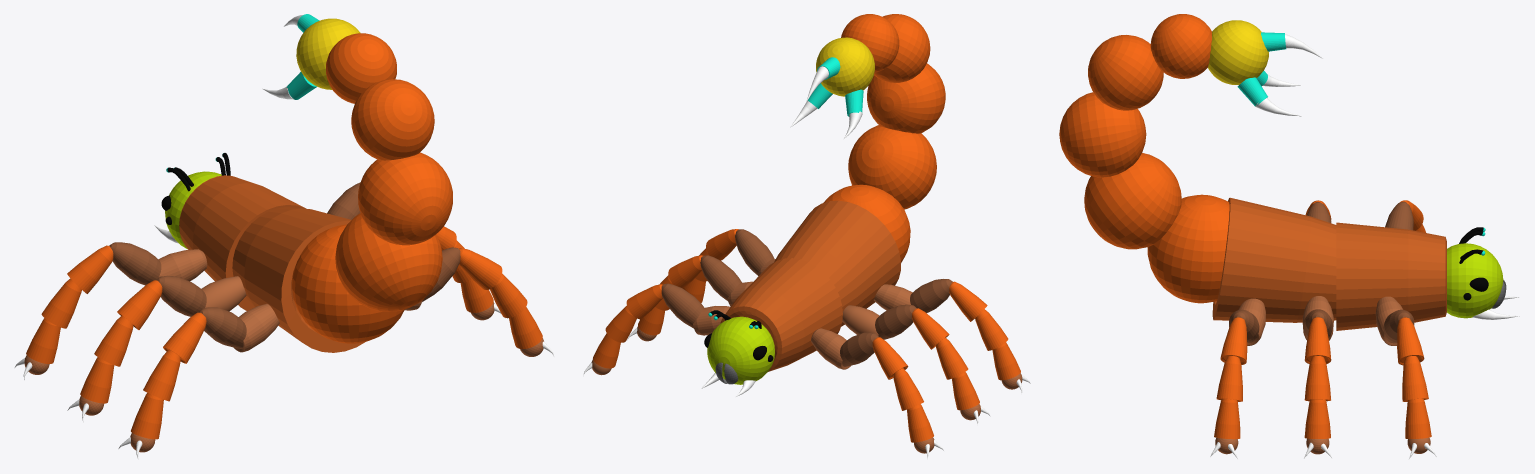
The model's file is Myridon Posed.glb.
The picture shows the model from 3 angles, left to right: view 1: azimuth 30°, elevation 25°; view 2: azimuth 150°, elevation 25°; view 3: azimuth 270°, elevation 25°; orthographic projection. The views are drawn at different scales.
Parts seen in each view (by area): view 1: Body Rear, Tail 1, Tail 2, Body Front, Tail Base, Tail 3, Tail 4, Tail Bulb, Leg 4 1, Leg 5 4, Leg 6 1, Leg 6 Base (+18 smaller); view 2: Body Rear, Body Front, Tail 1, Tail 2, Head Main, Tail Bulb, Tail Base, Tail 3, Tail 4, Leg 4 1.001, Leg 5 4.001, Leg 6 1.001 (+22 smaller); view 3: Body Rear, Body Front, Tail 1, Tail Base, Tail 2, Tail 3, Tail 4, Head Main, Tail Bulb, Leg 5 2.001, Leg 4 3.001, Leg 6 3.001 (+13 smaller).
Part boxes in pixels (bbox=[...]): Body Rear: bbox=[232, 207, 364, 352]; Tail 1: bbox=[335, 213, 442, 311]; Tail 2: bbox=[358, 152, 452, 245]; Body Front: bbox=[179, 175, 306, 310]; Tail Base: bbox=[292, 224, 404, 343]; Tail 3: bbox=[351, 79, 434, 160]; Tail 4: bbox=[326, 33, 396, 103]; Tail Bulb: bbox=[296, 18, 360, 89]; Leg 4 1: bbox=[109, 242, 161, 285]; Leg 5 4: bbox=[156, 275, 206, 316]; Leg 6 1: bbox=[199, 307, 246, 348]; Leg 6 Base: bbox=[233, 303, 279, 352]; Body Rear: bbox=[774, 200, 900, 326]; Body Front: bbox=[720, 258, 842, 371]; Tail 1: bbox=[848, 125, 936, 209]; Tail 2: bbox=[867, 63, 945, 133]; Head Main: bbox=[707, 316, 774, 384]; Tail Bulb: bbox=[816, 37, 874, 96]; Tail Base: bbox=[823, 184, 910, 262]; Tail 3: bbox=[874, 14, 930, 82]; Tail 4: bbox=[841, 14, 899, 72]; Leg 4 1.001: bbox=[661, 283, 704, 328]; Leg 5 4.001: bbox=[700, 255, 741, 300]; Leg 6 1.001: bbox=[735, 229, 774, 275]; Body Rear: bbox=[1212, 197, 1336, 322]; Body Front: bbox=[1336, 222, 1446, 330]; Tail 1: bbox=[1084, 153, 1181, 249]; Tail Base: bbox=[1147, 194, 1229, 303]; Tail 2: bbox=[1059, 92, 1146, 177]; Tail 3: bbox=[1088, 35, 1163, 110]; Tail 4: bbox=[1150, 14, 1211, 78]; Head Main: bbox=[1447, 243, 1503, 318]; Tail Bulb: bbox=[1208, 20, 1268, 84]; Leg 5 2.001: bbox=[1304, 356, 1330, 401]; Leg 4 3.001: bbox=[1402, 356, 1428, 401]; Leg 6 3.001: bbox=[1216, 356, 1242, 401].
Bounding box in the file's own units: 8.25 × 7.11 × 8.49.
1 material, 1 textured.
